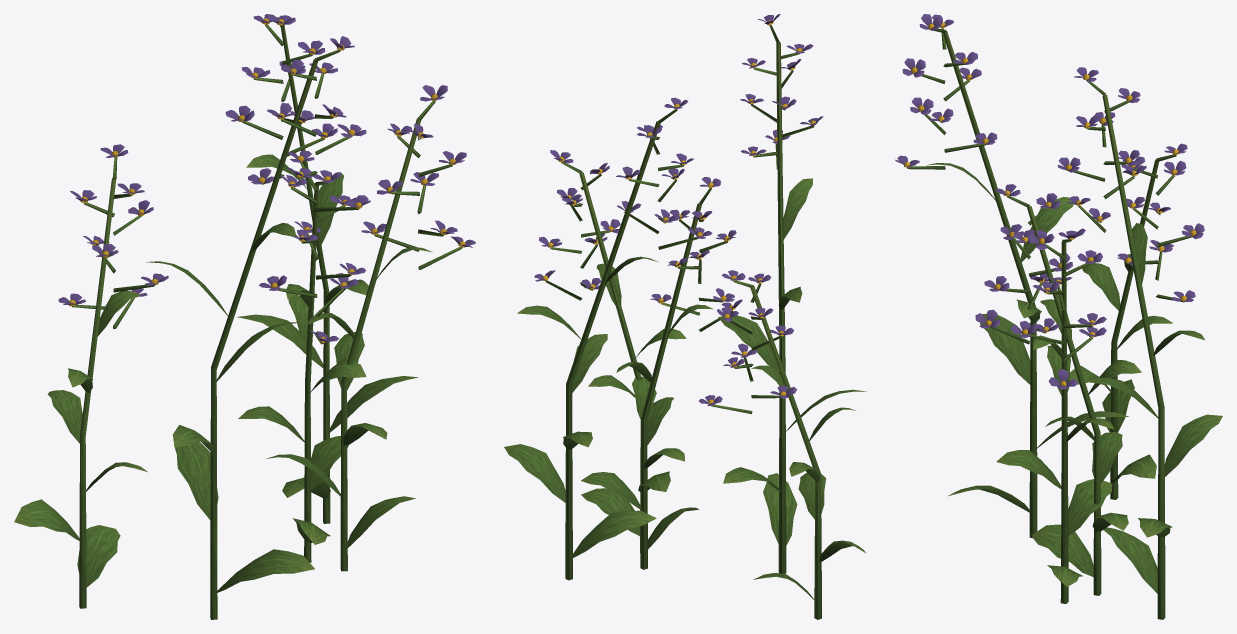
File: MeadowClary_C.fbx
3 views of the same model, side by side, from view 1: azimuth 30°, elevation 25°; view 2: azimuth 150°, elevation 25°; view 3: azimuth 270°, elevation 25° (orthographic). The views are drawn at different scales.
Visible parts, largest first — view 1: MeadowClary_C_LOD0; view 2: MeadowClary_C_LOD0; view 3: MeadowClary_C_LOD0.
Boxes of the visible parts, bbox=[...] form: MeadowClary_C_LOD0: bbox=[14, 14, 475, 619]; MeadowClary_C_LOD0: bbox=[504, 14, 866, 619]; MeadowClary_C_LOD0: bbox=[895, 14, 1222, 619].
Size of what is drawn, in the model's own units: 28.4 by 38.39 by 20.71.
Materials: 1 (1 with a texture image).
